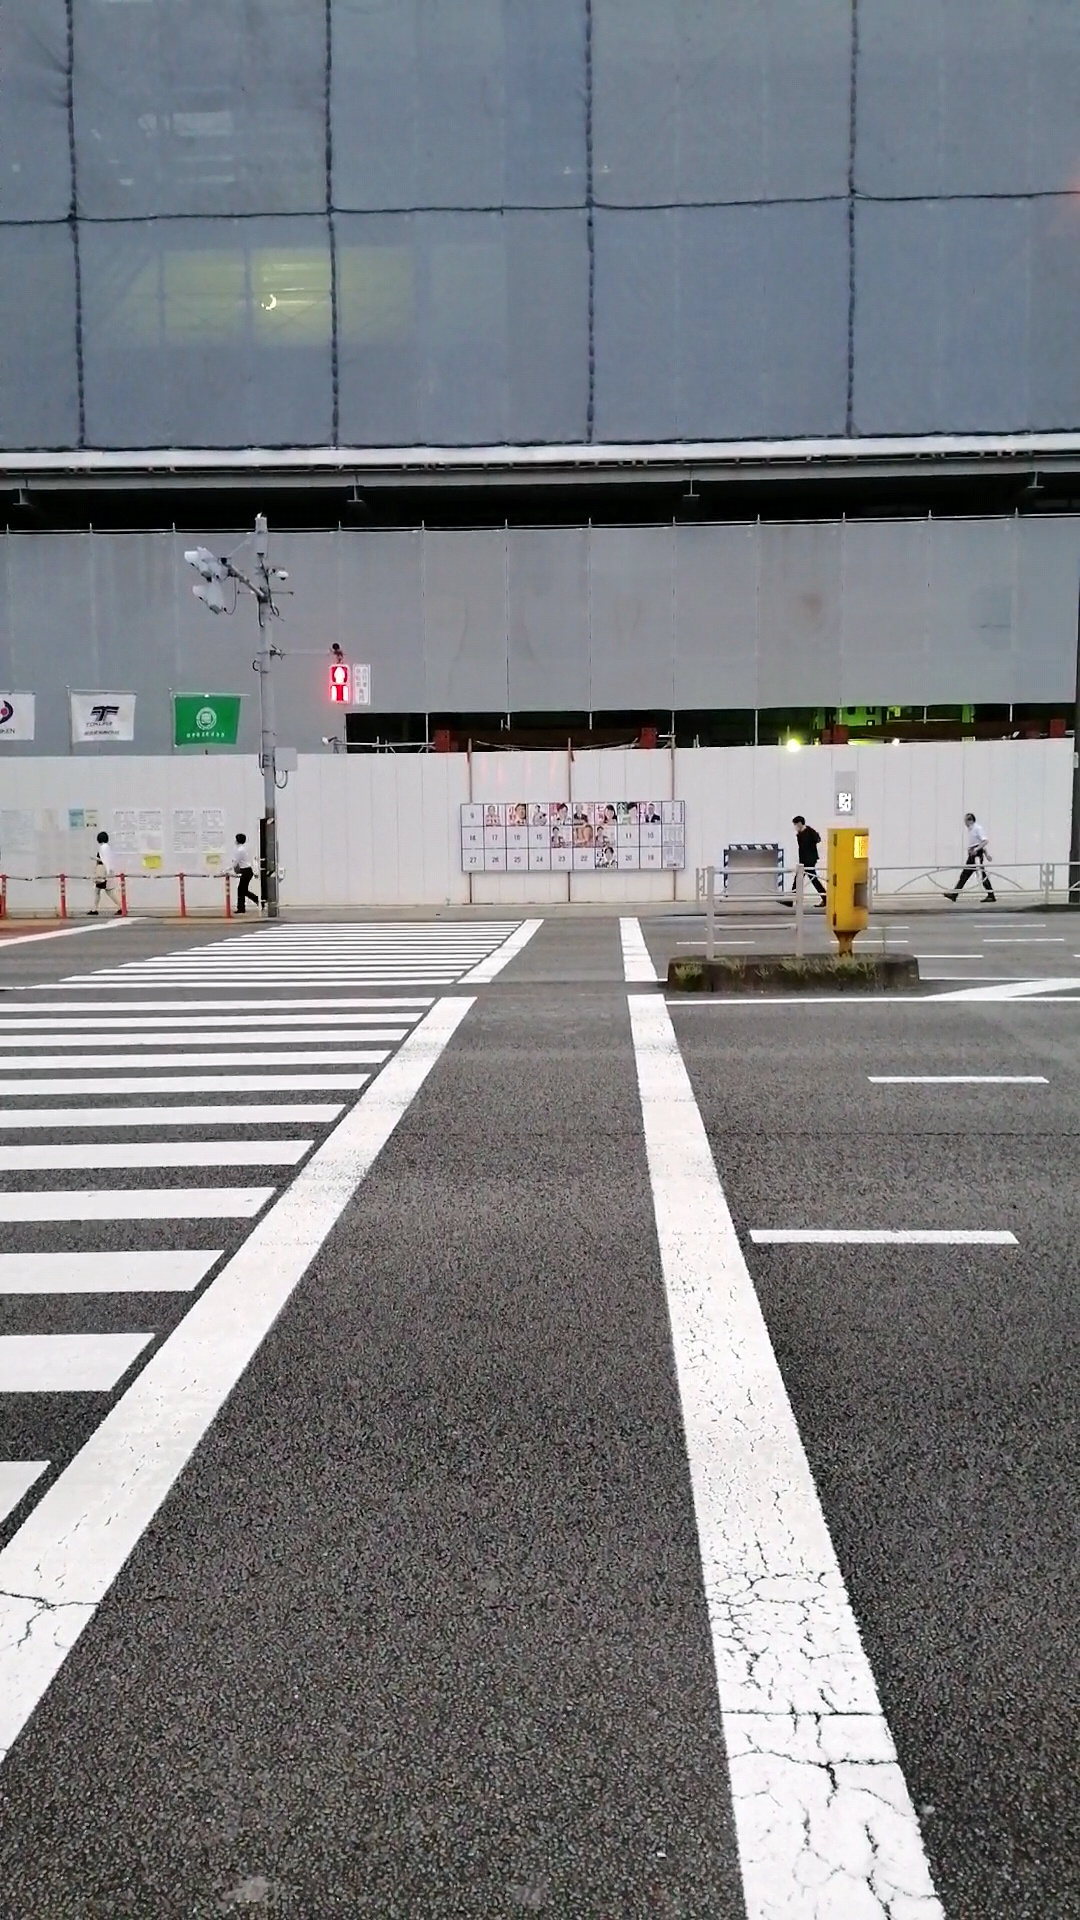red: (328, 665, 351, 705)
